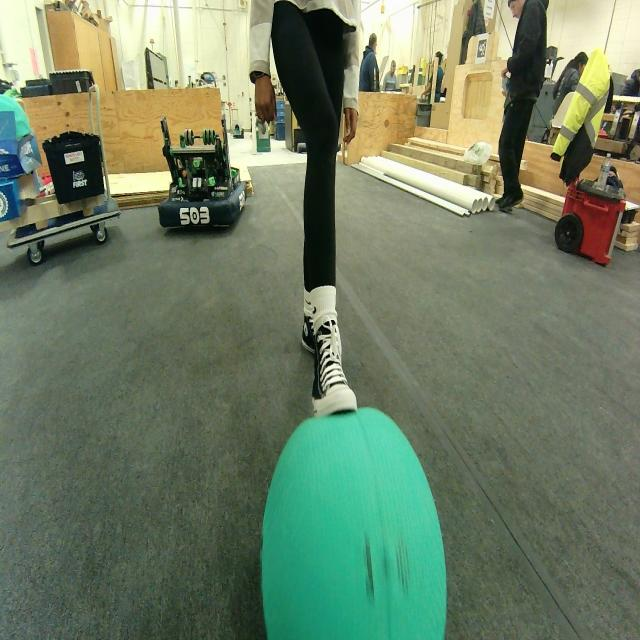algae: (261, 408, 446, 639)
